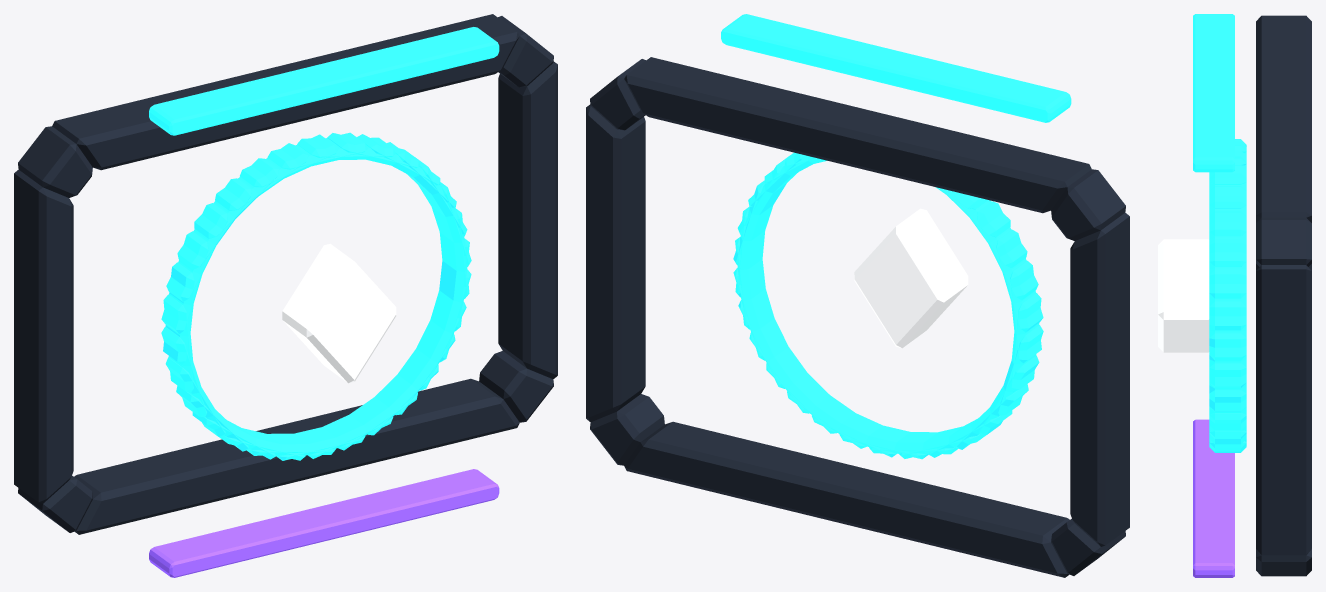
Rendered from tech-react.glb.
3 views of the same model, side by side, from view 1: azimuth 30°, elevation 25°; view 2: azimuth 150°, elevation 25°; view 3: azimuth 270°, elevation 25° (orthographic). The views are drawn at different scales.
Parts seen in each view (by area): view 1: tech-react_SystemMaterial, tech-react_SignalMaterial, tech-react_AccentMaterial, tech-react_LabelMaterial; view 2: tech-react_SystemMaterial, tech-react_SignalMaterial, tech-react_LabelMaterial; view 3: tech-react_SystemMaterial, tech-react_SignalMaterial, tech-react_LabelMaterial, tech-react_AccentMaterial.
Part boxes in pixels (left/top/right/bottom): tech-react_SystemMaterial: left=14, top=14, right=557, bottom=534; tech-react_SignalMaterial: left=149, top=27, right=499, bottom=460; tech-react_AccentMaterial: left=149, top=469, right=499, bottom=577; tech-react_LabelMaterial: left=282, top=243, right=396, bottom=383; tech-react_SystemMaterial: left=586, top=57, right=1129, bottom=577; tech-react_SignalMaterial: left=721, top=14, right=1071, bottom=459; tech-react_LabelMaterial: left=854, top=208, right=968, bottom=348; tech-react_SystemMaterial: left=1256, top=15, right=1311, bottom=576; tech-react_SignalMaterial: left=1193, top=14, right=1246, bottom=452; tech-react_LabelMaterial: left=1158, top=239, right=1209, bottom=352; tech-react_AccentMaterial: left=1193, top=419, right=1234, bottom=577.
Bounding box in the file's own units: 1.18 × 0.995 × 0.33.
